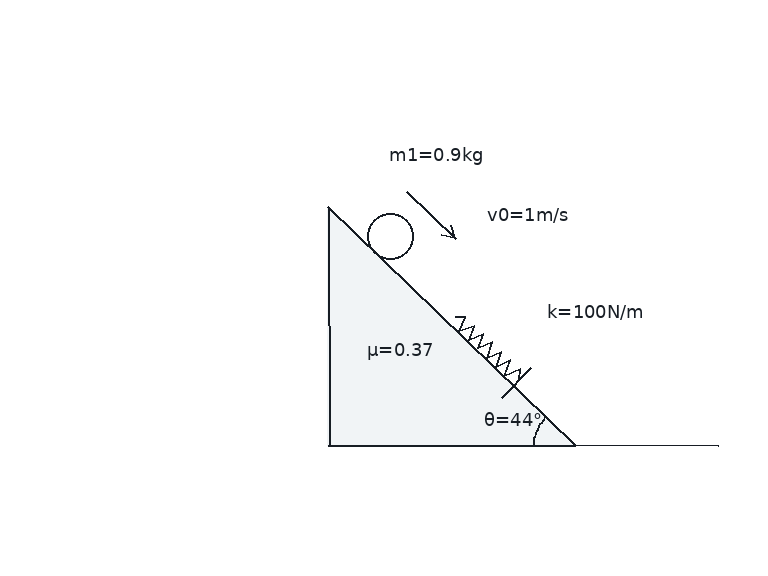ball: (365, 211, 415, 261)
ramp: (326, 205, 576, 447)
spring: (453, 315, 521, 381)
